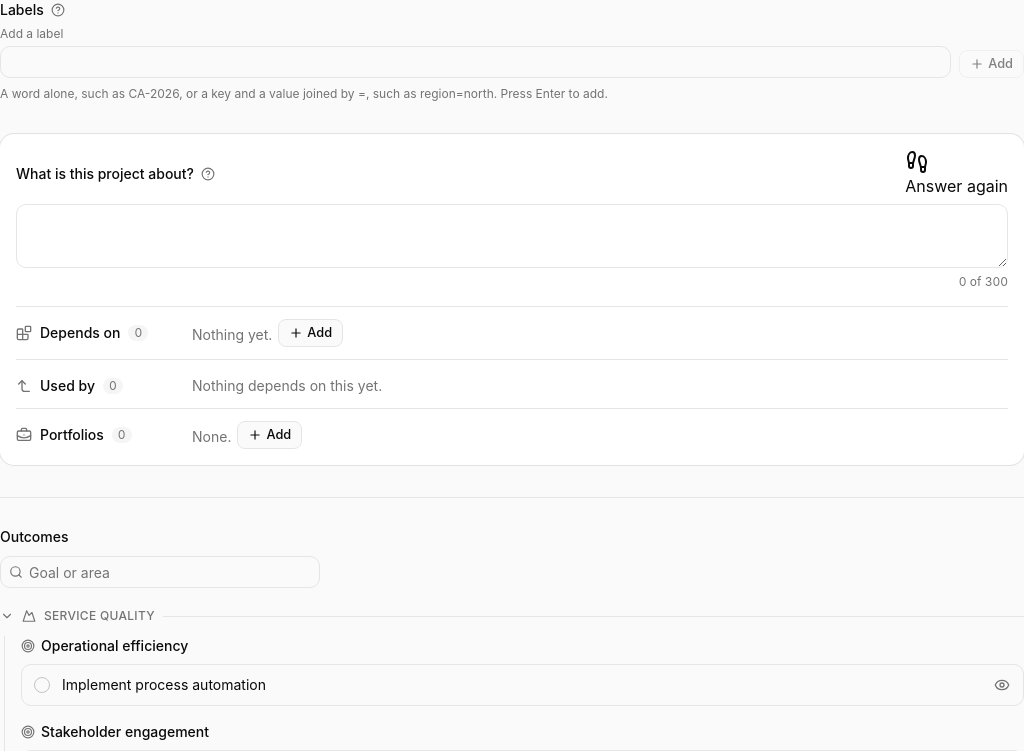
Test case: Alignment gives a goal the weight of a commitment › counts the goals picked in a branch, beside that branch's name
Click the button "Implement process automation": click(164, 684) x1=21 y1=664 x2=1023 y2=706
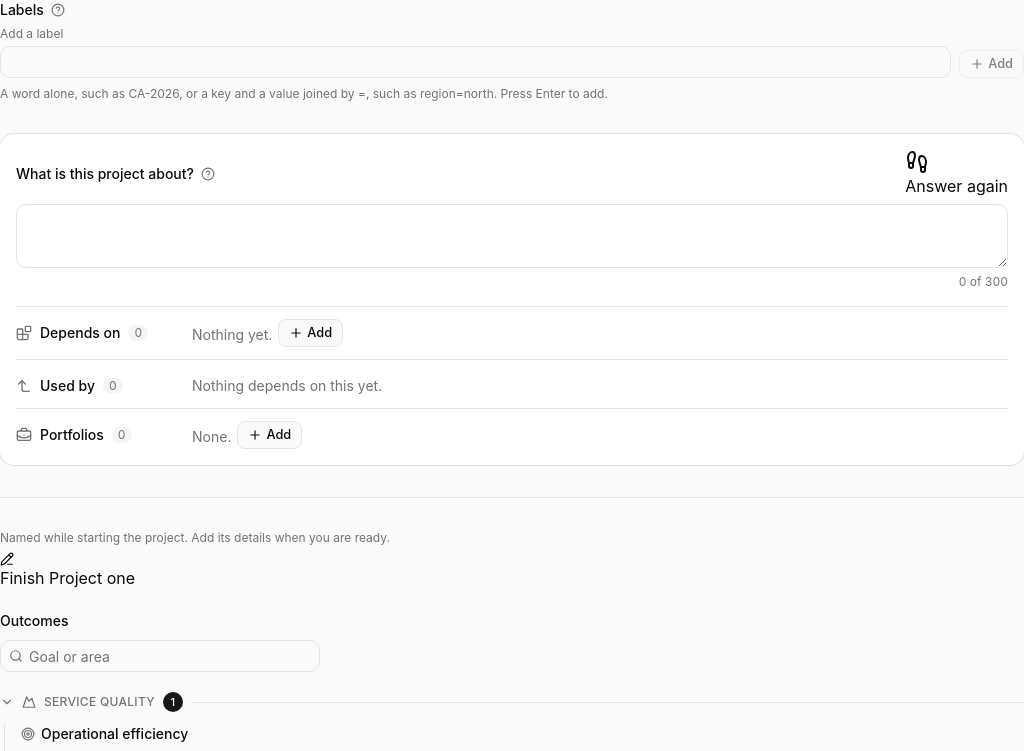
Check: the text "1" is shown, box x1=163 y1=692 x2=183 y2=712
